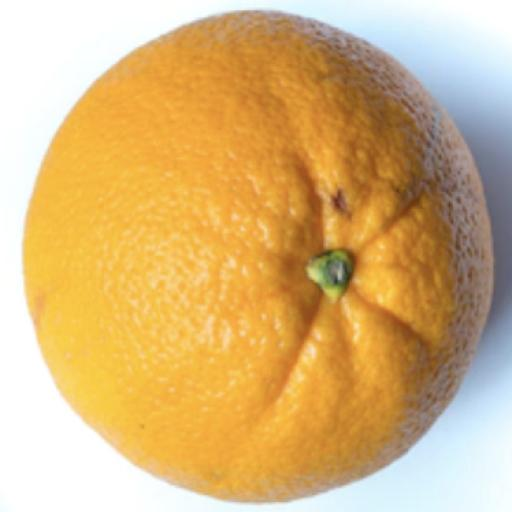orange: (25, 12, 492, 500)
